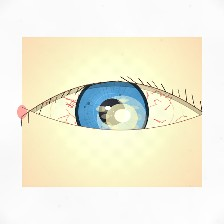corneal_ulcer: (96, 97, 148, 139)
